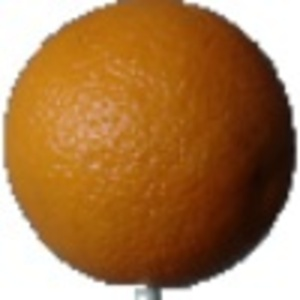laranja: (3, 2, 298, 296)
